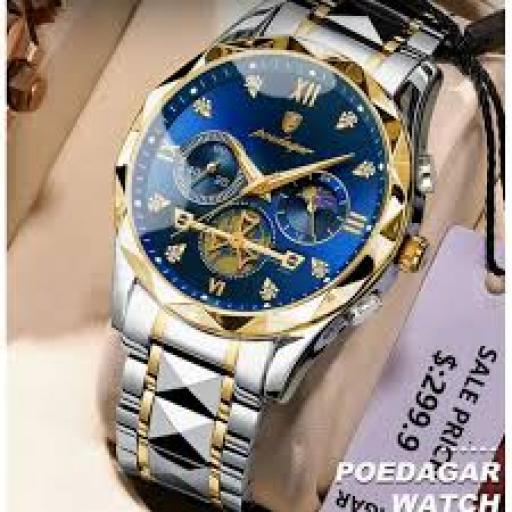KolSaati: (56, 11, 450, 498)
